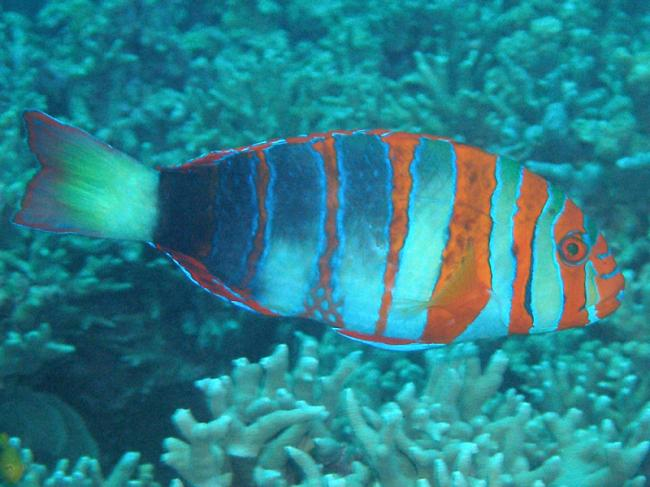fish: (14, 109, 625, 353)
